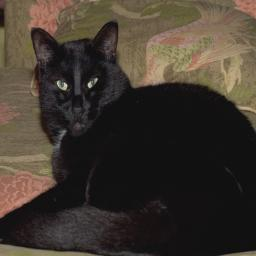catnose: (71, 103, 84, 119)
